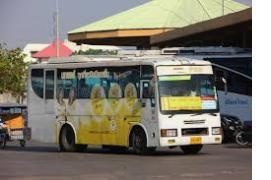bus: (29, 54, 221, 155)
